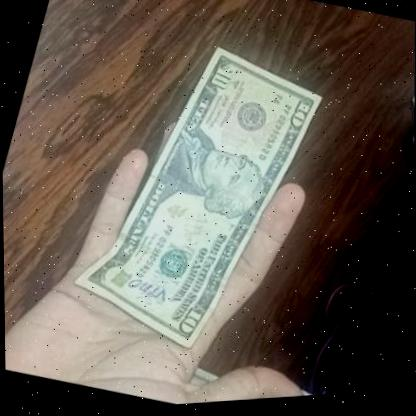ten-front: (59, 24, 338, 377)
